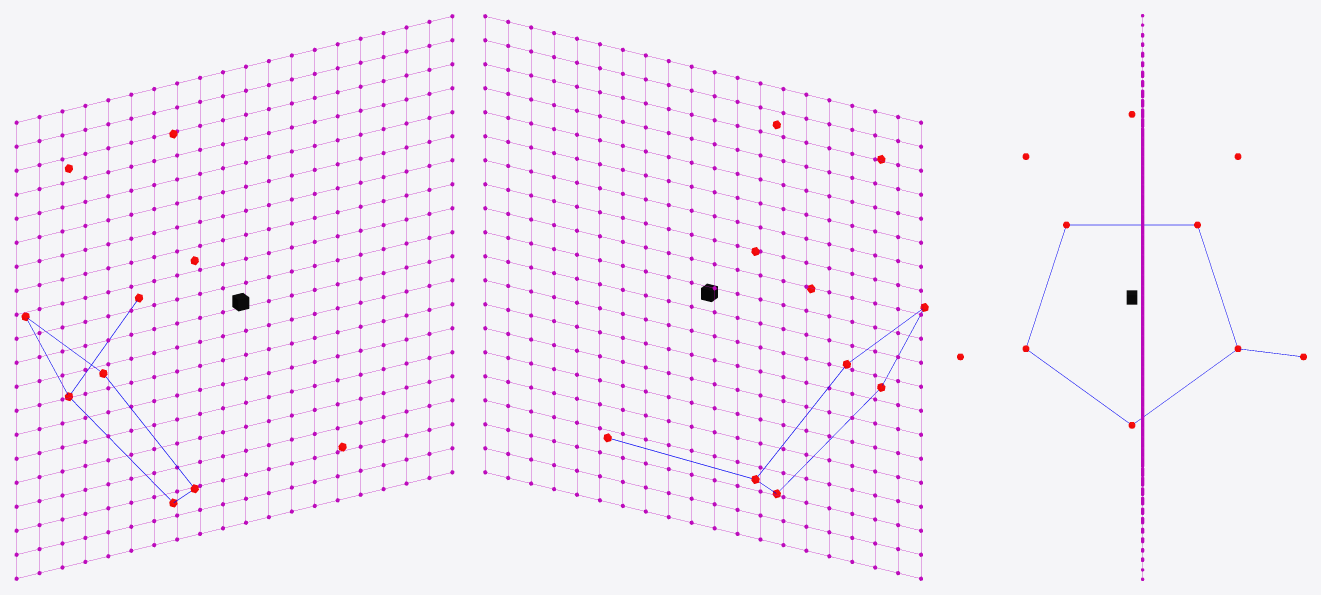
Rendered from JustConnect.glb.
3 views of the same model, side by side, from view 1: azimuth 30°, elevation 25°; view 2: azimuth 150°, elevation 25°; view 3: azimuth 270°, elevation 25° (orthographic). The views are drawn at different scales.
Size of the model in its own units: 4.03 by 4.03 by 3.3.
